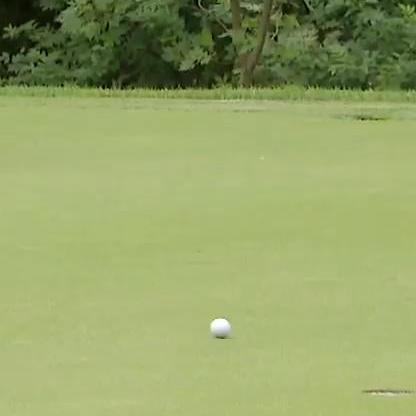golfball: (206, 315, 229, 338)
